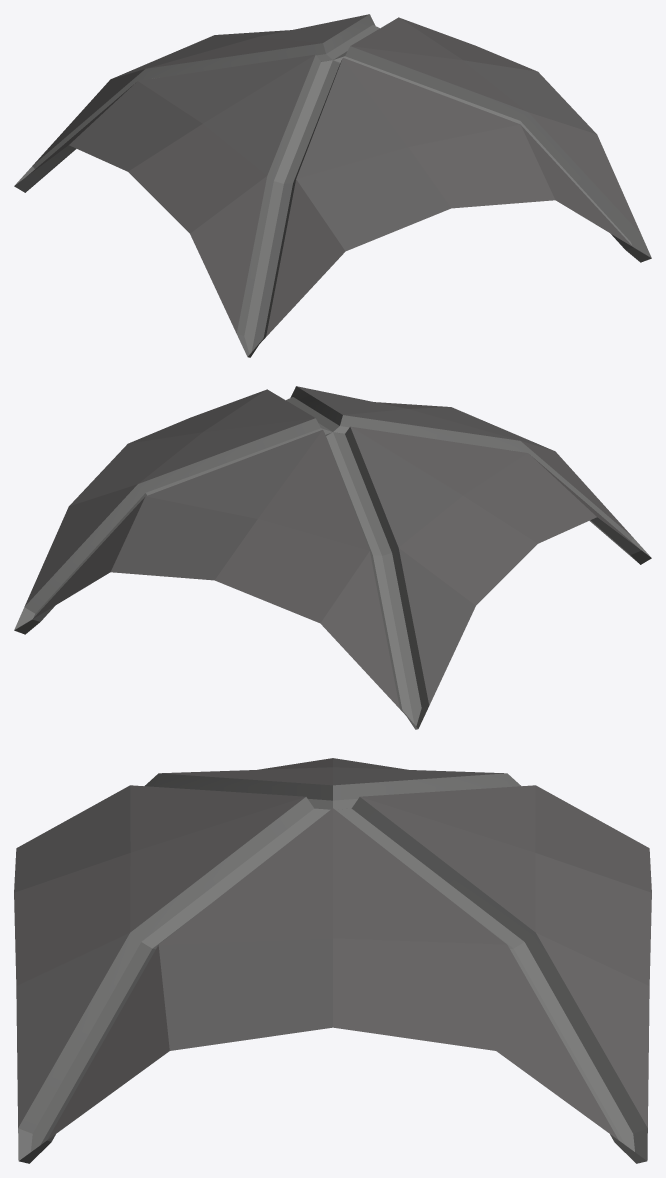
The model's file is SM_Env_Ceiling_Arch_01.FBX.
3 views of the same model, one above another, from view 1: azimuth 30°, elevation 25°; view 2: azimuth 150°, elevation 25°; view 3: azimuth 270°, elevation 25° (orthographic). The views are drawn at different scales.
Visible parts, largest first — view 1: SM_Env_Ceiling_Arch_01; view 2: SM_Env_Ceiling_Arch_01; view 3: SM_Env_Ceiling_Arch_01.
Part boxes in pixels (bbox=[...]): SM_Env_Ceiling_Arch_01: bbox=[14, 14, 651, 357]; SM_Env_Ceiling_Arch_01: bbox=[14, 386, 651, 729]; SM_Env_Ceiling_Arch_01: bbox=[14, 758, 651, 1163].
Size of what is drawn, in the model's own units: 509 by 509 by 211.
